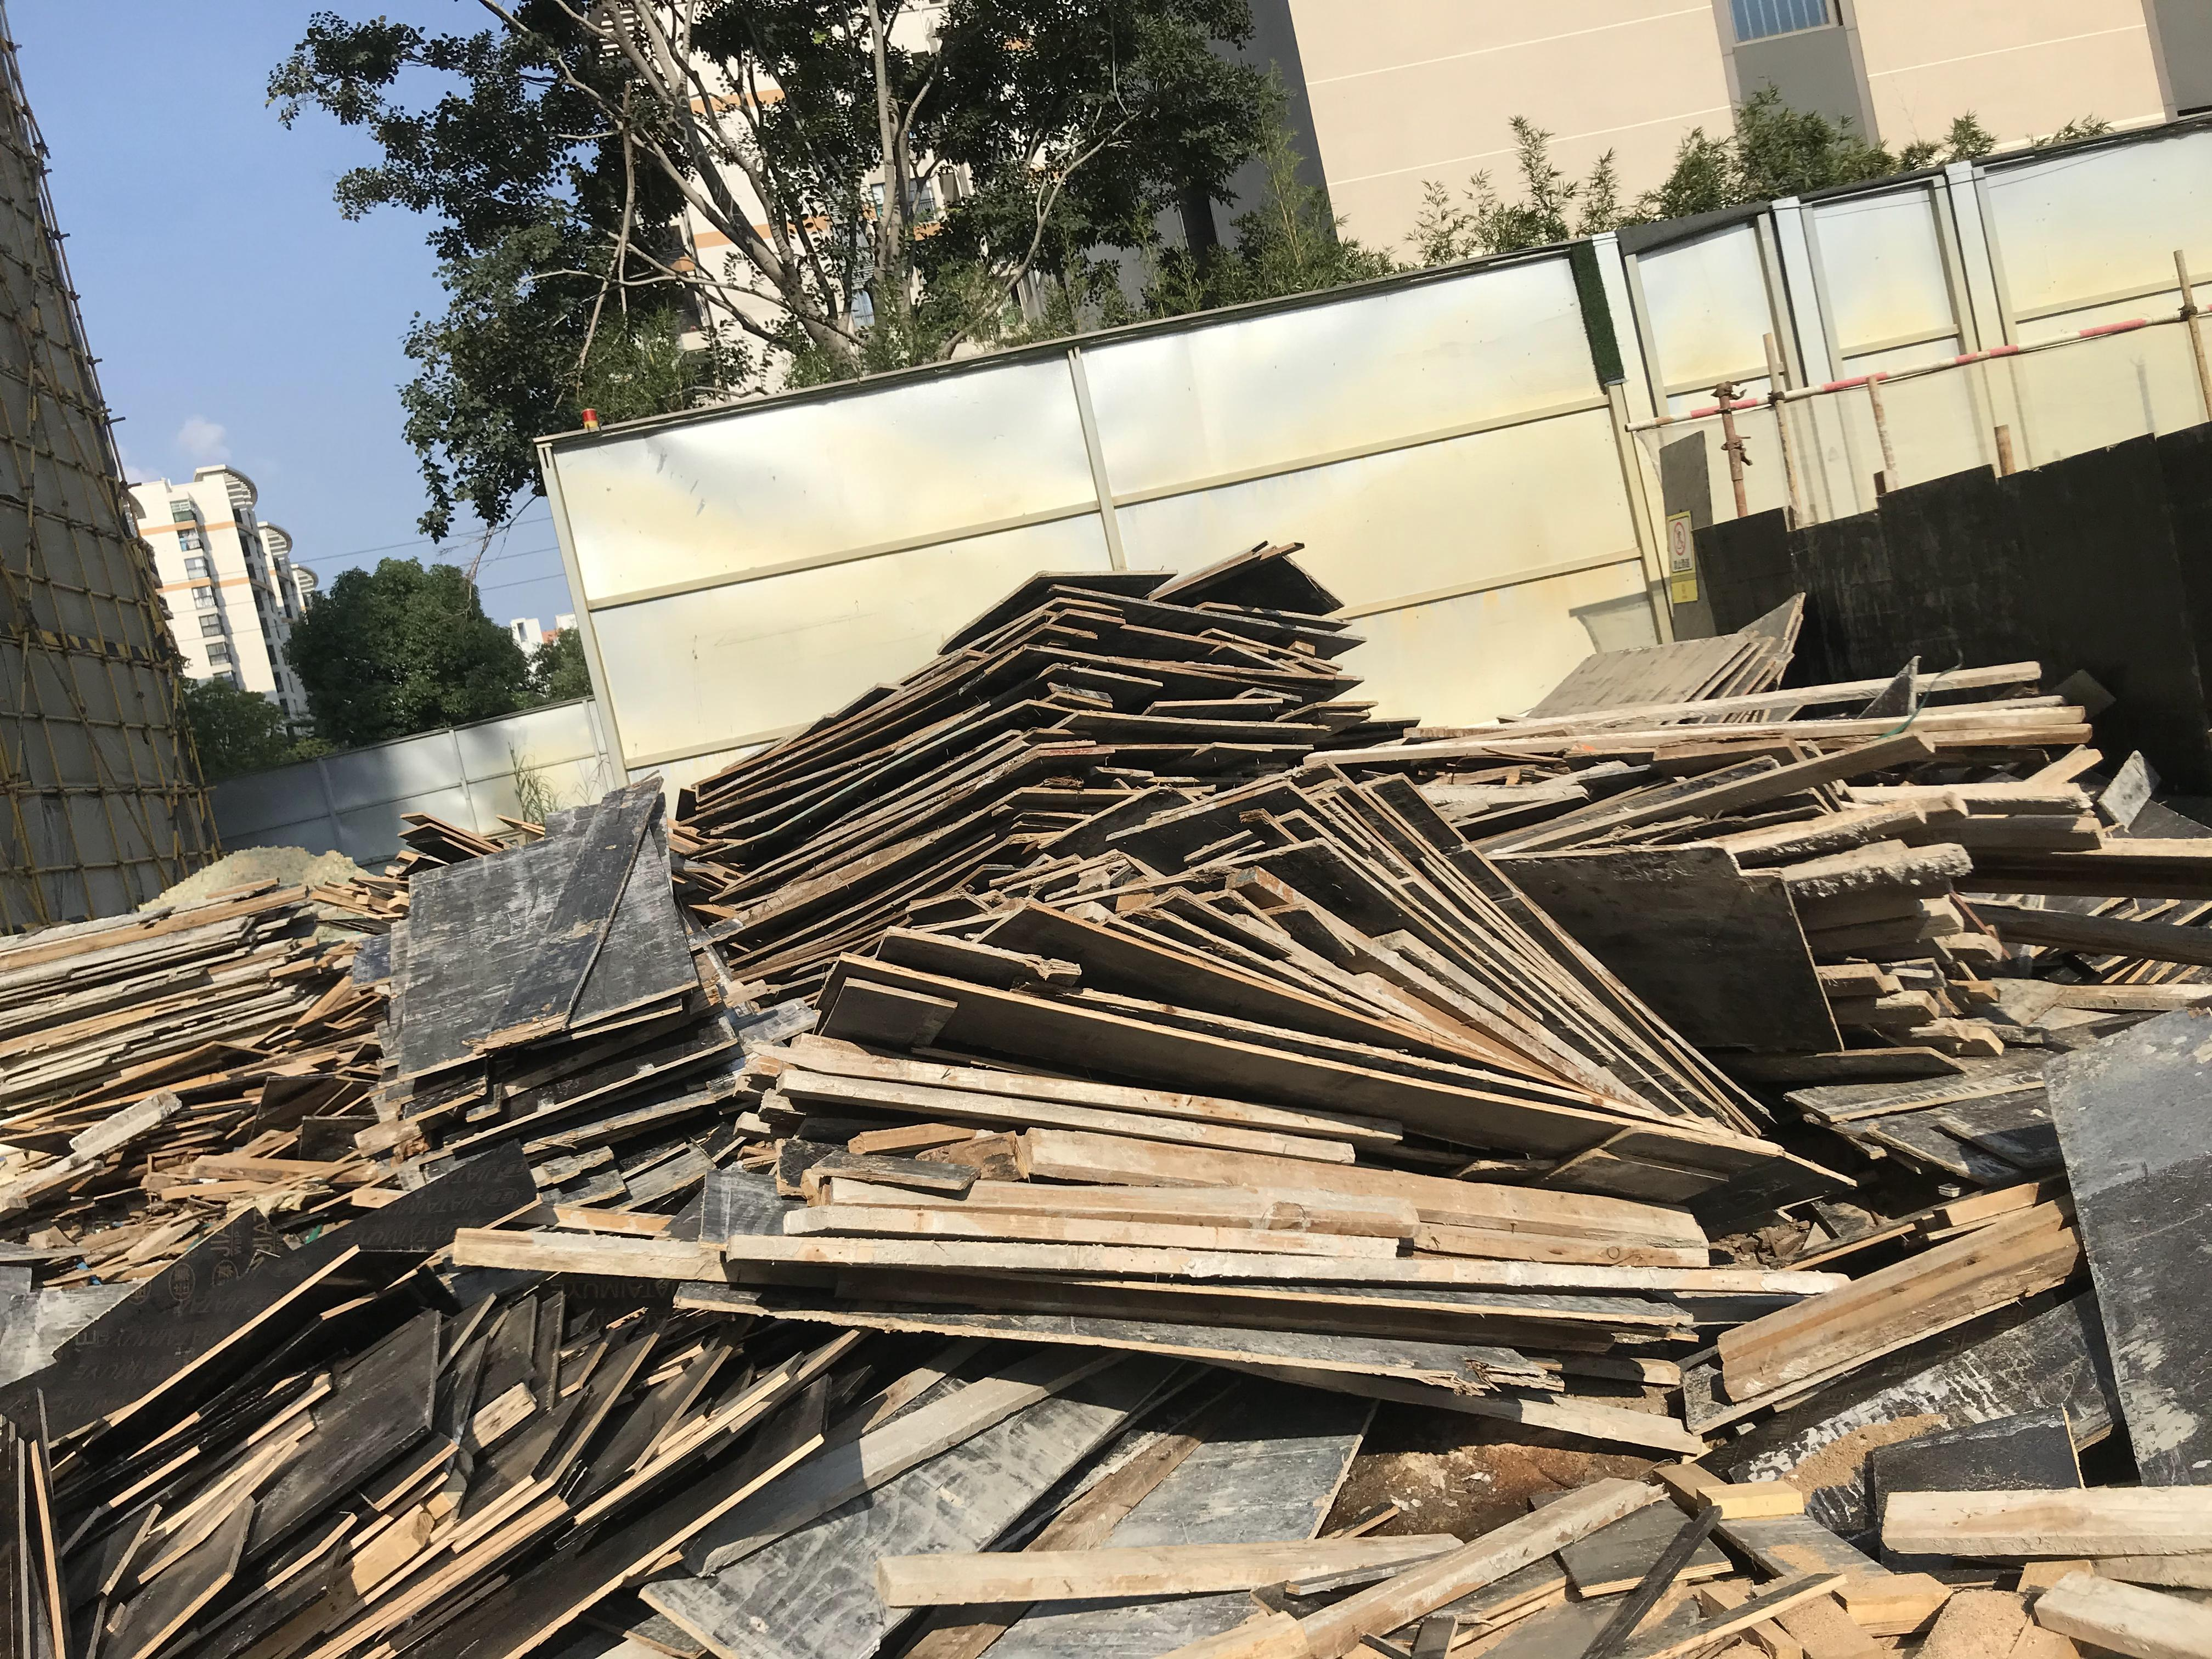board: (784, 781, 1780, 1171), (686, 551, 1362, 990), (0, 885, 343, 1152)
